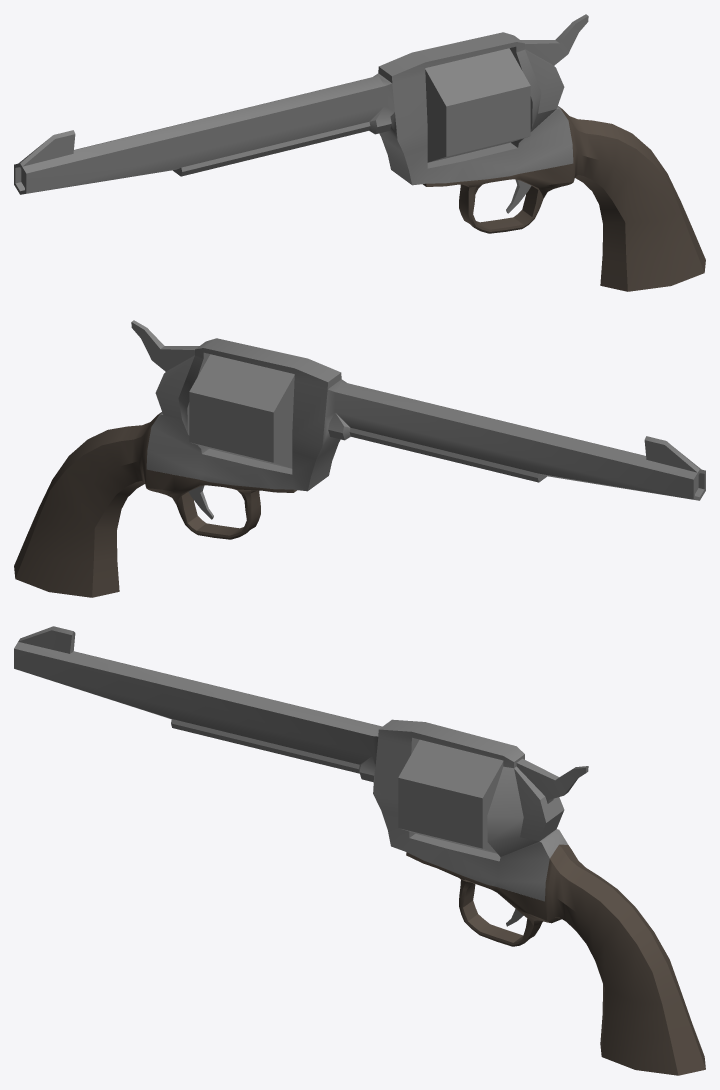
File: Revolver.fbx
The picture shows the model from 3 angles, top to bottom: view 1: azimuth 30°, elevation 25°; view 2: azimuth 150°, elevation 25°; view 3: azimuth 330°, elevation 25°; orthographic projection.
Parts seen in each view (by area): view 1: body, Cylinder, hammer; view 2: body, Cylinder, hammer; view 3: body, Cylinder, hammer.
Part boxes in pixels (x1,y1,x2,y2): body: [14, 32, 705, 291]; Cylinder: [425, 48, 530, 162]; hammer: [521, 14, 588, 65]; body: [14, 338, 705, 597]; Cylinder: [189, 354, 294, 468]; hammer: [131, 320, 198, 371]; body: [14, 626, 705, 1075]; Cylinder: [398, 739, 503, 853]; hammer: [516, 758, 588, 803].
Size of the model in its own units: 2777 by 1100 by 337.
